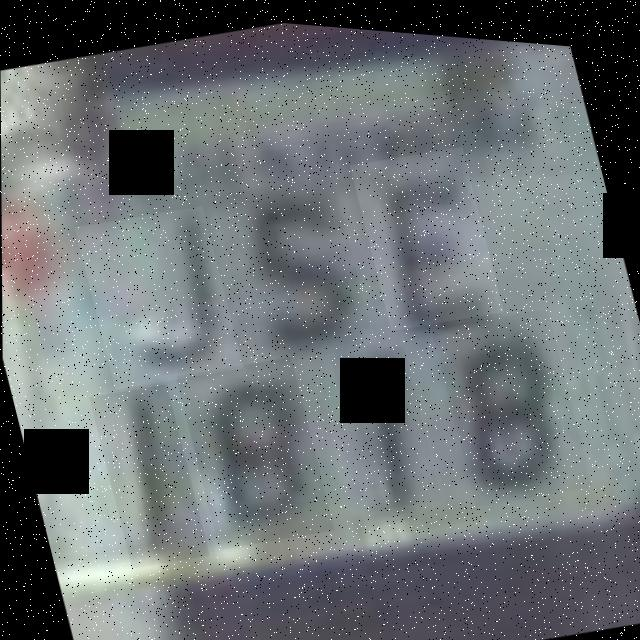1: (88, 376, 208, 571), (329, 333, 441, 510)
8: (431, 291, 592, 505)
B: (175, 344, 335, 553)
E: (349, 131, 503, 331)
J: (74, 194, 243, 395)
S: (211, 162, 369, 350)
